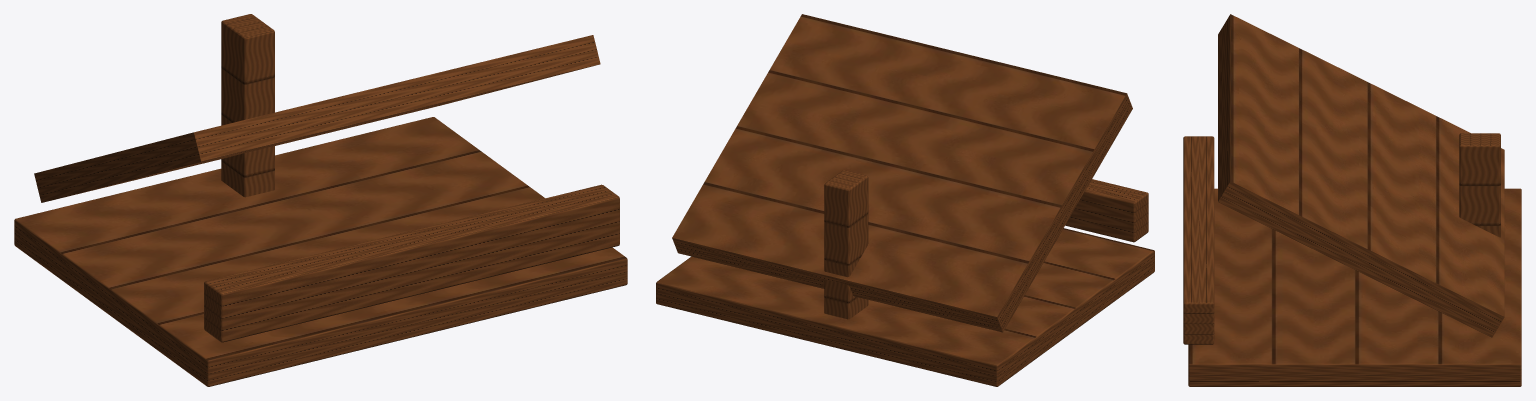
File: research-and-crafting-progression-reference-book-stand-968bd21e__2868.glb
3 renders of one model, left to right at view 1: azimuth 30°, elevation 25°; view 2: azimuth 150°, elevation 25°; view 3: azimuth 270°, elevation 25°, orthographic. The views are drawn at different scales.
Visible parts, largest first — view 1: reference-book-stand; view 2: reference-book-stand; view 3: reference-book-stand.
Part boxes in pixels (left/top/right/bottom): reference-book-stand: left=14, top=14, right=627, bottom=386; reference-book-stand: left=656, top=14, right=1154, bottom=386; reference-book-stand: left=1183, top=14, right=1521, bottom=386.
Size of the model in its own units: 0.4 by 0.2138 by 0.325.
1 material, 1 textured.
